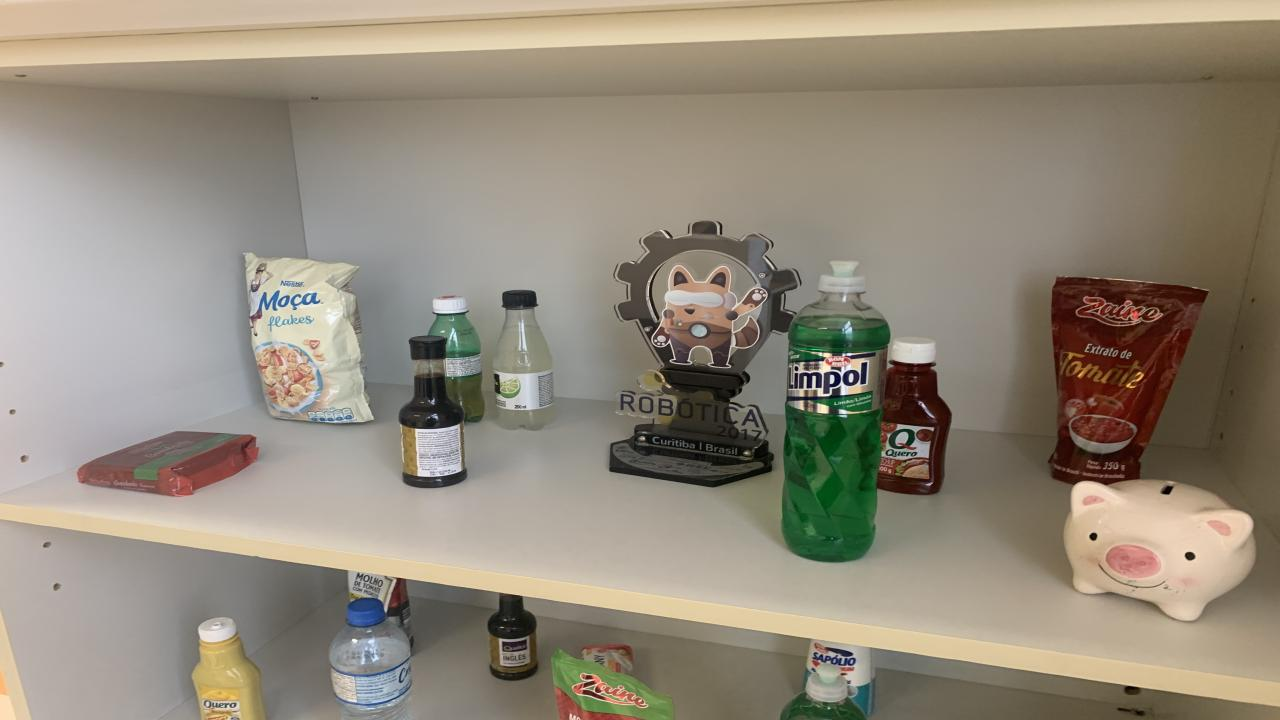Cleaner-Cleanup_Items: (805, 639, 875, 716)
Detergent-Cleanup_Items: (782, 262, 890, 562), (780, 664, 868, 720)
English_Sauce-Pantry_Items: (398, 336, 468, 488), (488, 594, 538, 681)
Flakes-Snacks: (245, 253, 372, 424)
Guarana-Drinks: (430, 296, 485, 422)
Guava-Snacks: (78, 431, 258, 497)
Ketchup-Pantry_Items: (878, 338, 950, 495)
Mustard-Pantry_Items: (192, 617, 265, 720)
Pig_Safe-Miscellaneous: (1062, 480, 1258, 621)
Soap-Cleanup_Items: (582, 645, 632, 675)
Soda-Drinks: (492, 291, 555, 429)
Tomato_Sauce-Pantry_Items: (1050, 278, 1208, 484), (550, 649, 675, 720), (348, 572, 412, 645)
Trophy-Miscellaneous: (610, 221, 800, 488)
Water_Bottle-Drinks: (330, 598, 412, 720)
